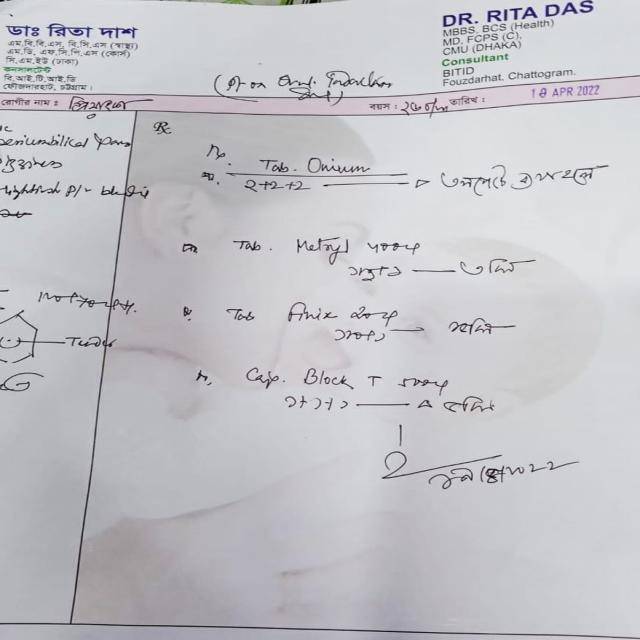Block T: (301, 367, 391, 394)
Finix: (279, 300, 347, 326)
Metnil: (292, 234, 362, 260)
Onium: (302, 157, 385, 175)
